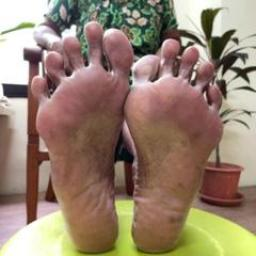Plantar View -Both Feet-: (12, 12, 242, 255)
